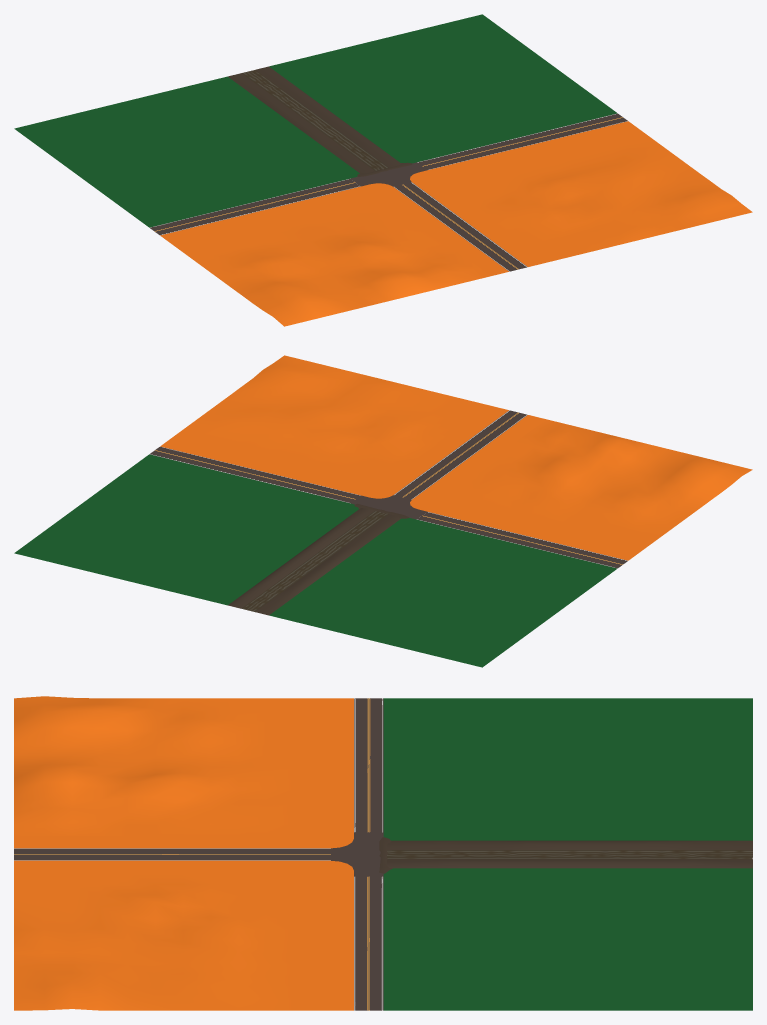
Rendered from TileForestDesert1.fbx.
3 views of the same model, one above another, from view 1: azimuth 30°, elevation 25°; view 2: azimuth 150°, elevation 25°; view 3: azimuth 270°, elevation 25° (orthographic). The views are drawn at different scales.
Visible parts, largest first — view 1: Plane.054, Plane.052, Plane.053, Road.012, Road.013, Road.011, Road.014, Road1.023; view 2: Plane.054, Plane.052, Plane.053, Road.013, Road.012, Road.011, Road.014, Road1.023; view 3: Plane.054, Plane.052, Plane.053, Road.011, Road.012, Road.013, Road.014, Road1.023.
Boxes of the visible parts, x1,y1,x2,y2 form: Plane.054: (14, 14, 617, 227); Plane.052: (160, 121, 752, 326); Plane.053: (228, 66, 412, 176); Road.012: (417, 113, 627, 170); Road.013: (149, 178, 360, 235); Road.011: (393, 182, 527, 271); Road.014: (241, 70, 388, 171); Road1.023: (350, 162, 426, 186); Plane.054: (14, 454, 616, 667); Plane.052: (160, 355, 752, 560); Plane.053: (228, 503, 408, 615); Road.013: (417, 511, 627, 568); Road.012: (150, 446, 360, 503); Road.011: (393, 410, 527, 499); Road.014: (241, 511, 388, 611); Road1.023: (350, 495, 426, 519); Plane.054: (383, 698, 752, 1010); Plane.052: (14, 696, 353, 1010); Plane.053: (379, 837, 752, 873); Road.011: (14, 848, 330, 860); Road.012: (354, 876, 383, 1010); Road.013: (354, 698, 383, 832); Road.014: (387, 850, 752, 859); Road1.023: (331, 832, 383, 876).
Bounding box in the file's own units: 20008 × 322 × 20000.
